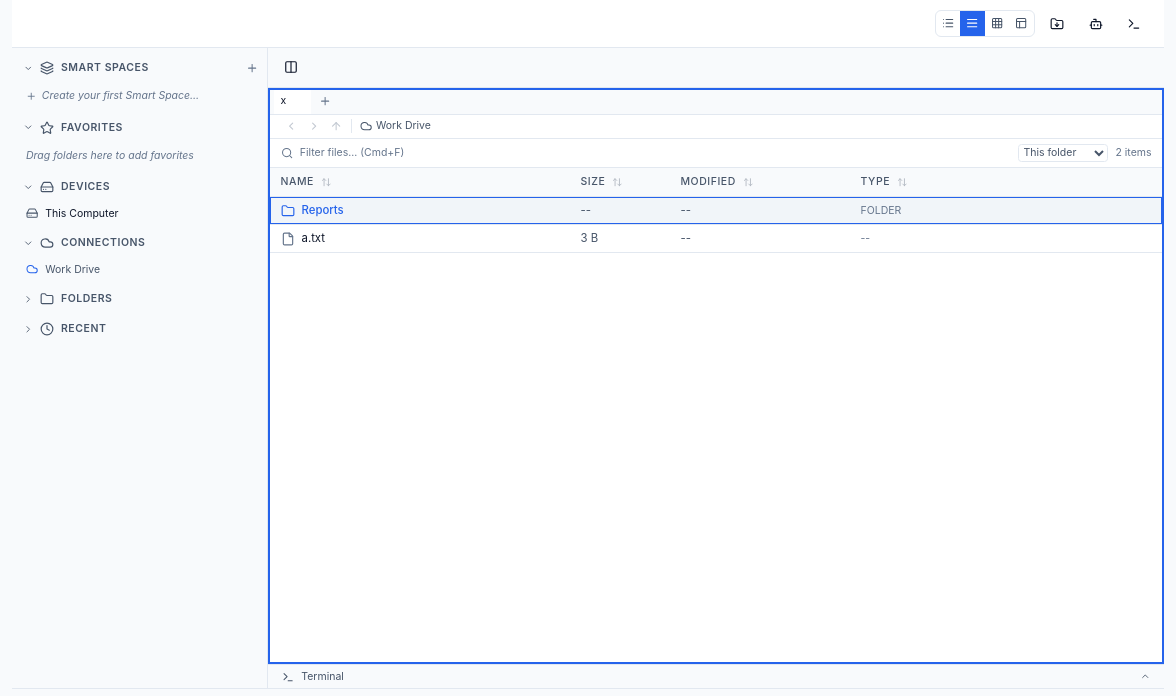
it: connections in the panes › offers share links and disables this-computer-only actions with a reason
Right-click the text "a.txt".
right_click(313, 239)  # box [302,230,325,248]
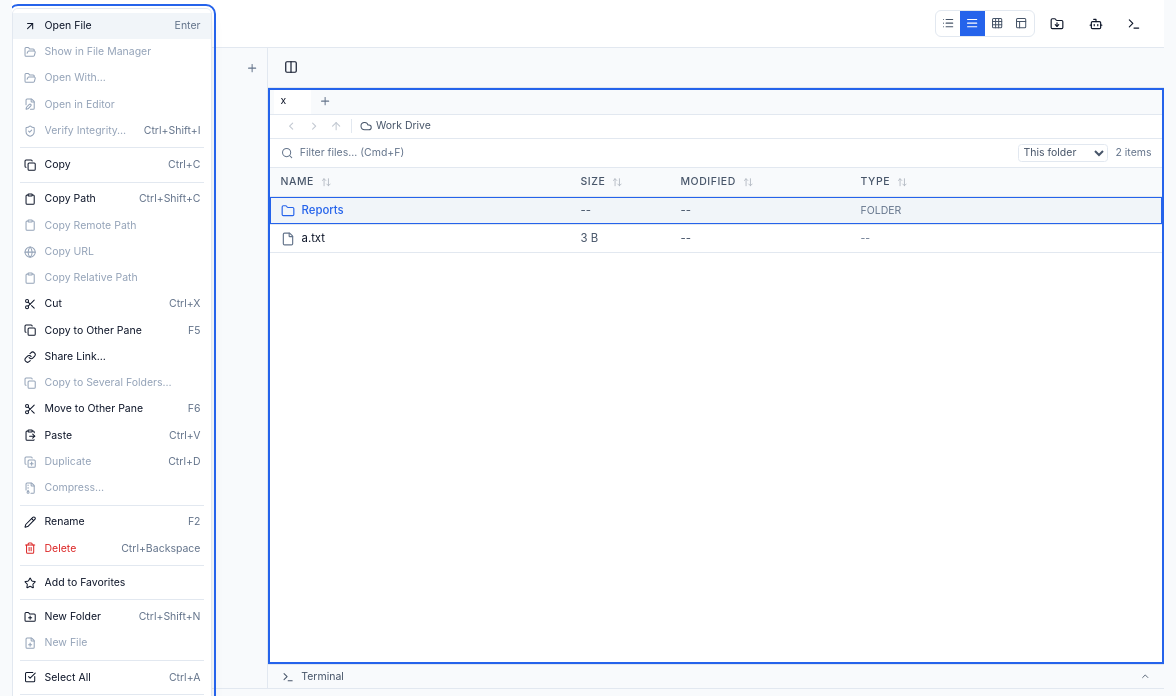
Expected: the menu item with test id "context-menu-item-share-link" is enabled, [13,344,211,370]
Expected: the menu item with test id "context-menu-item-duplicate" is disabled, [13,448,211,475]
Expected: the menu item with test id "context-menu-item-delete" shows "Delete", [13,535,211,562]
